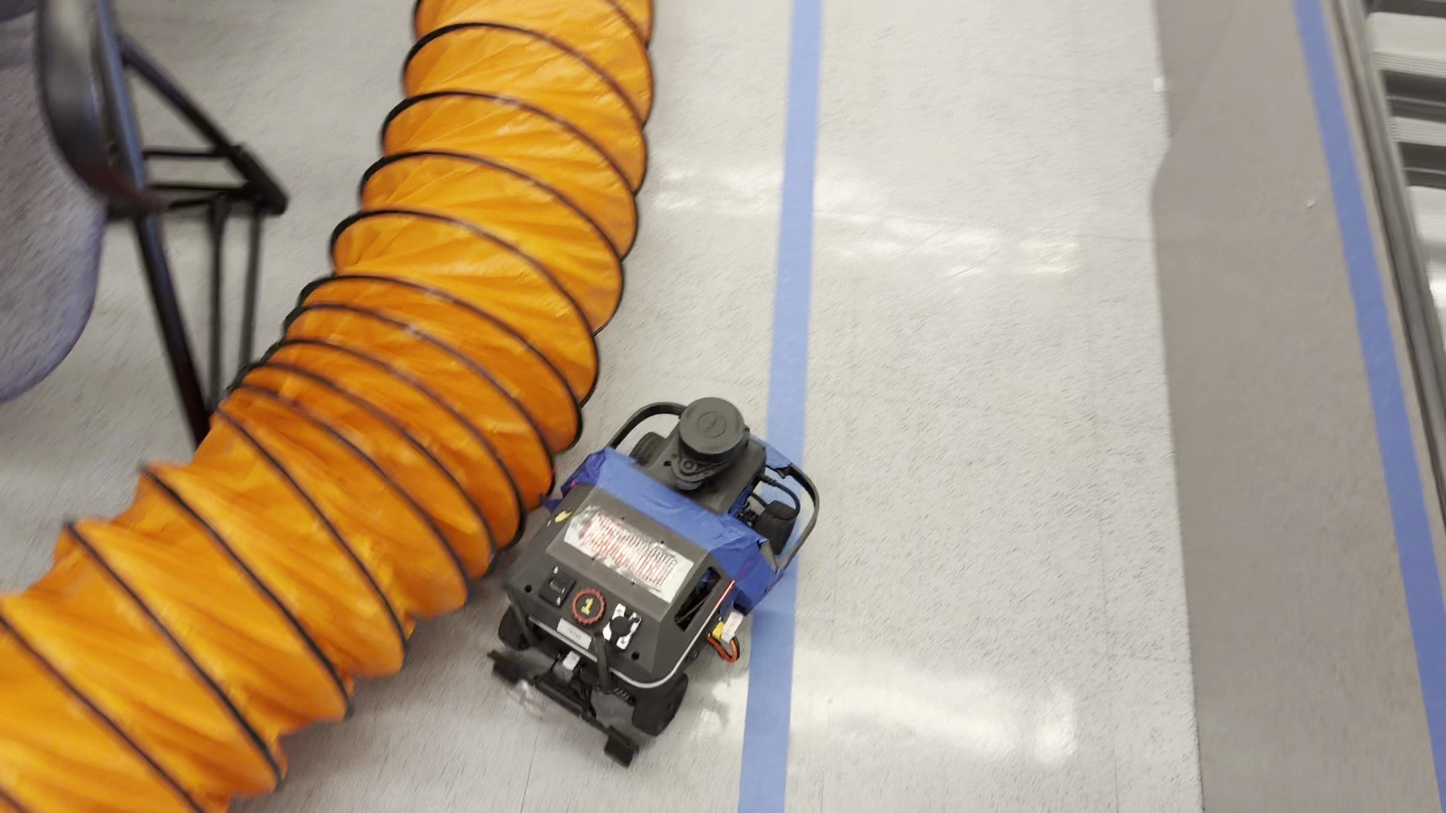racecar: (484, 394, 814, 764)
